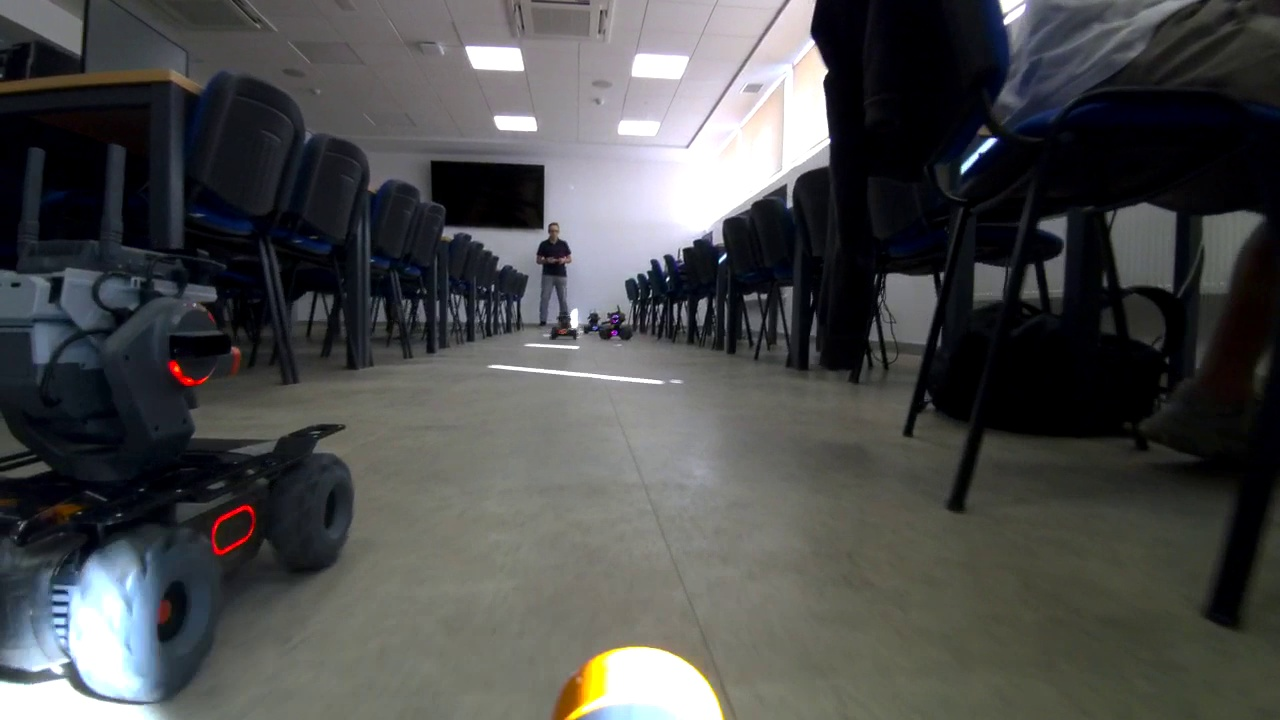robot: (1, 217, 361, 703)
